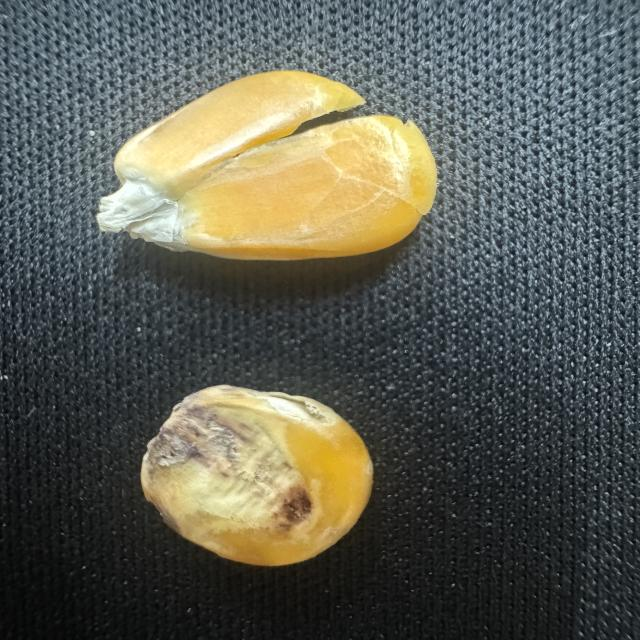Bad-Seed: (92, 65, 442, 267), (134, 381, 384, 570)
